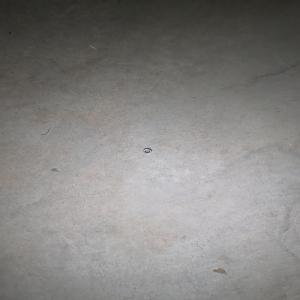Nut: (142, 147, 152, 154)
